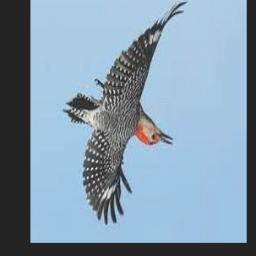Woodpecker: (63, 1, 188, 226)
